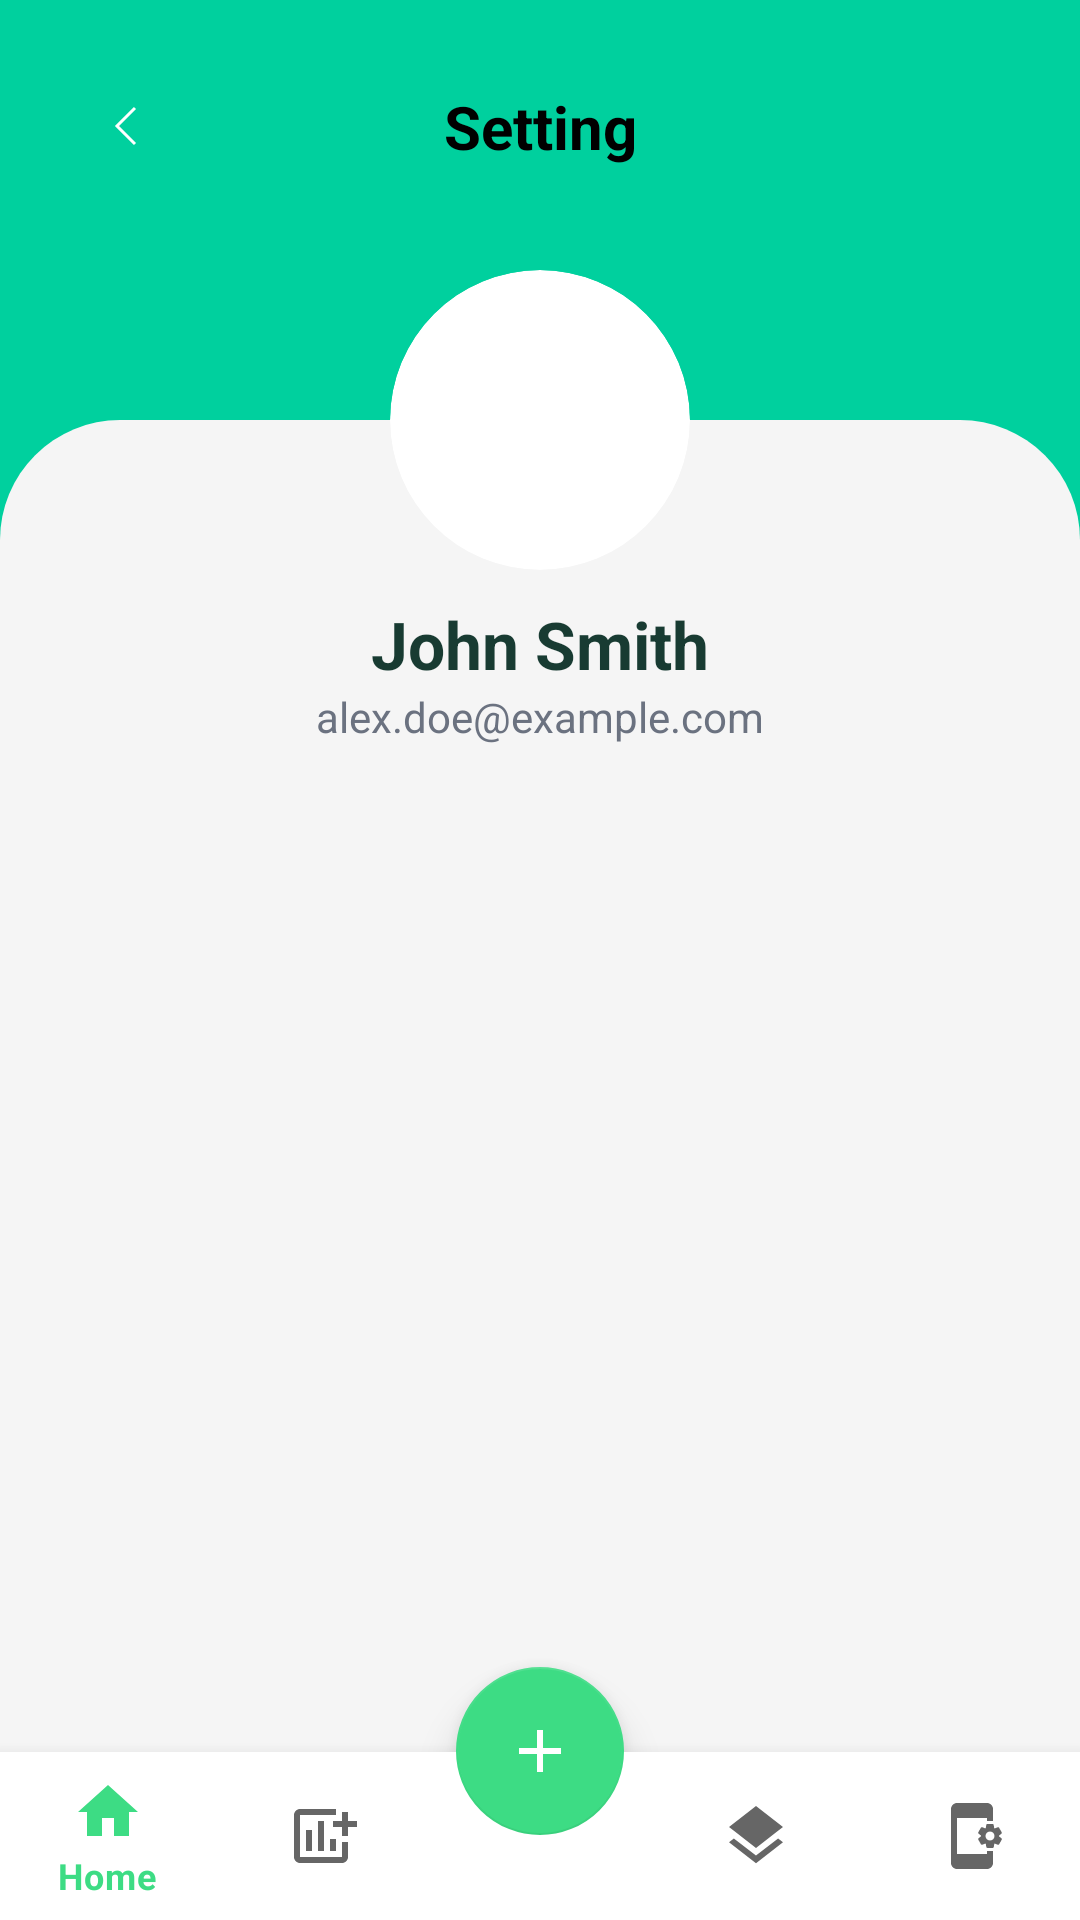

Icons on this 1080w x 1920h Android screen, each with its box as [x1, y1, x2, y2]:
add: [456, 1667, 624, 1835]
arrow back: [115, 107, 136, 145]
